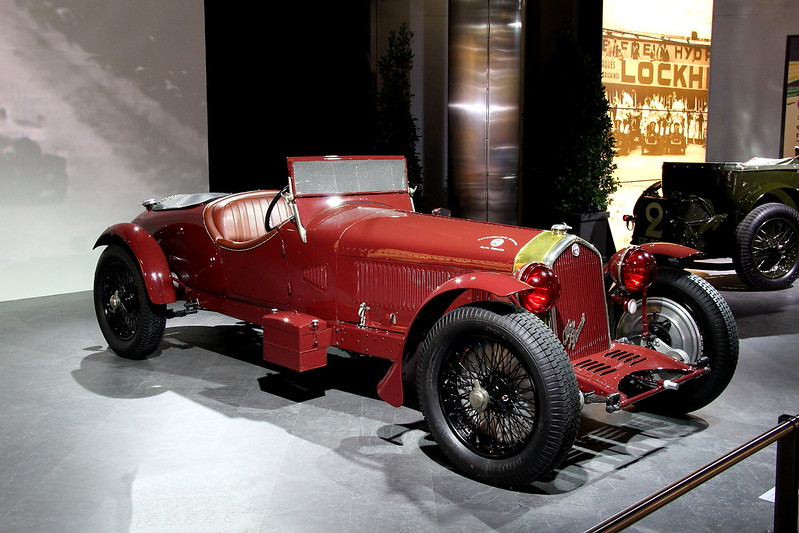car: (91, 153, 744, 484)
